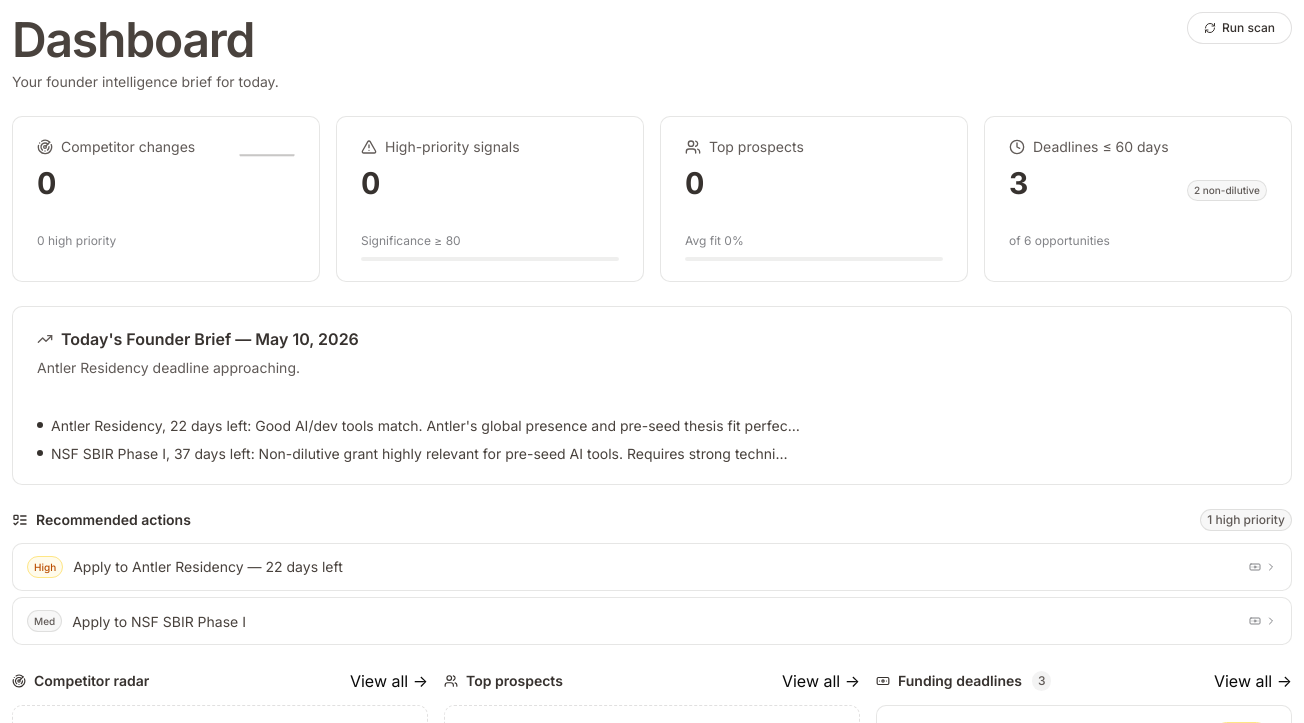
it: DashboardClient — loading state › shows Scanning… text and disables the button while refresh is in flight
Click the button with test id "refresh-button" at (1240, 28), box [1187,12,1292,44]
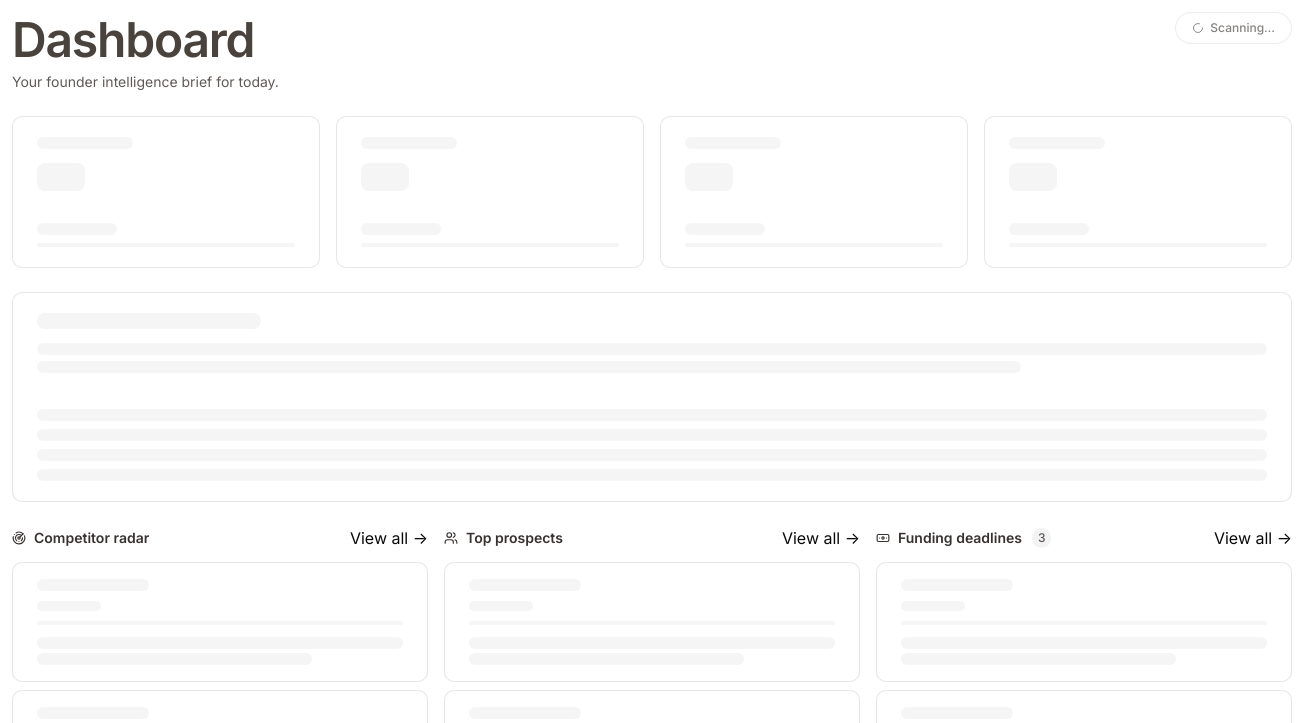
Expected: the button with test id "refresh-button" is disabled, [1175,12,1292,44]
